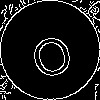O: (25, 25, 76, 81)
